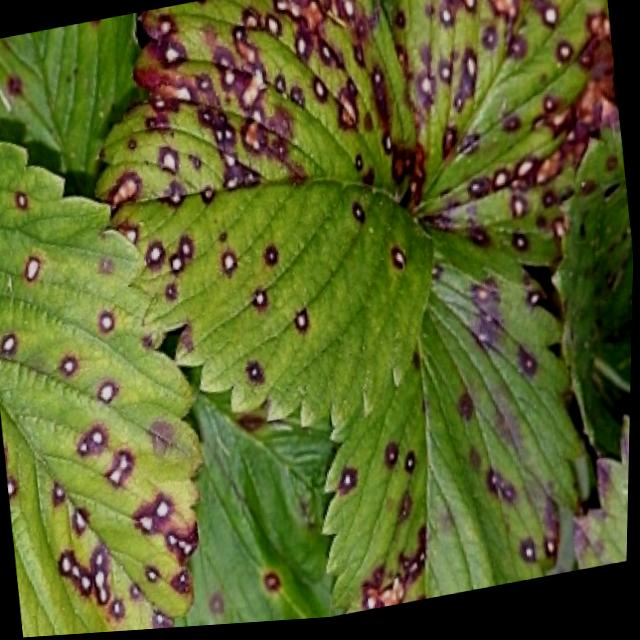Leaf Spot: (97, 0, 436, 436), (323, 232, 595, 619), (0, 141, 208, 638), (380, 0, 615, 223), (175, 392, 348, 630), (419, 87, 614, 277), (555, 105, 635, 469), (0, 13, 149, 203), (577, 417, 632, 578)
